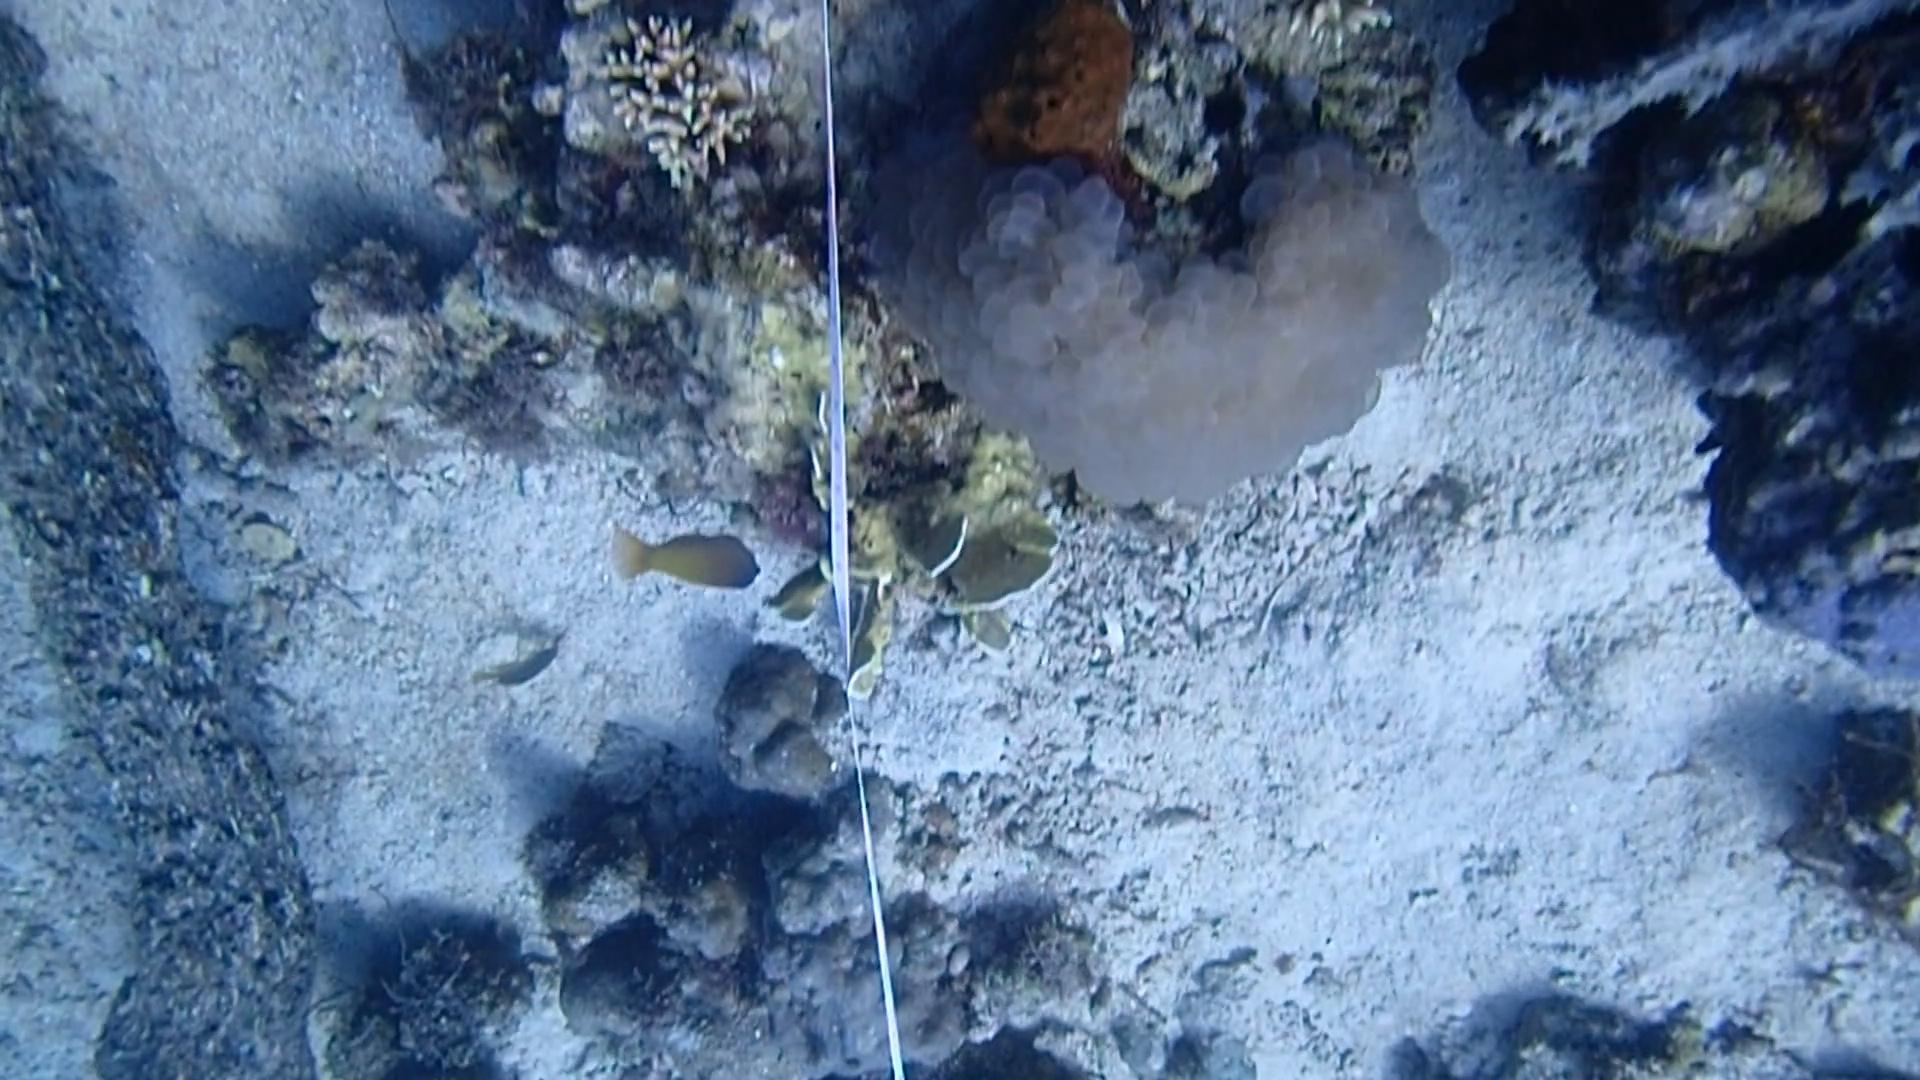Light Fish: (476, 629, 571, 702)
Yellow-Blue Fish: (603, 525, 779, 596)
